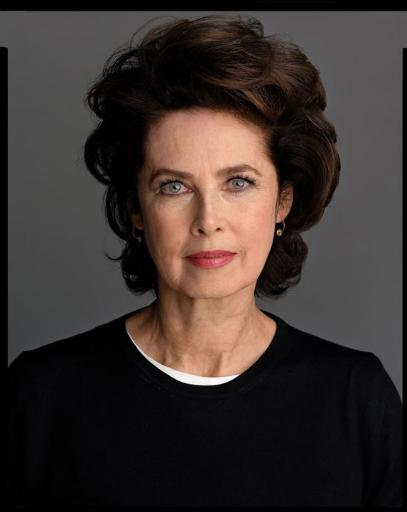left_eye: (223, 177, 259, 196)
left_lip_corner: (231, 251, 242, 263)
right_eye: (158, 181, 194, 199)
right_lip_corner: (182, 253, 194, 267)
